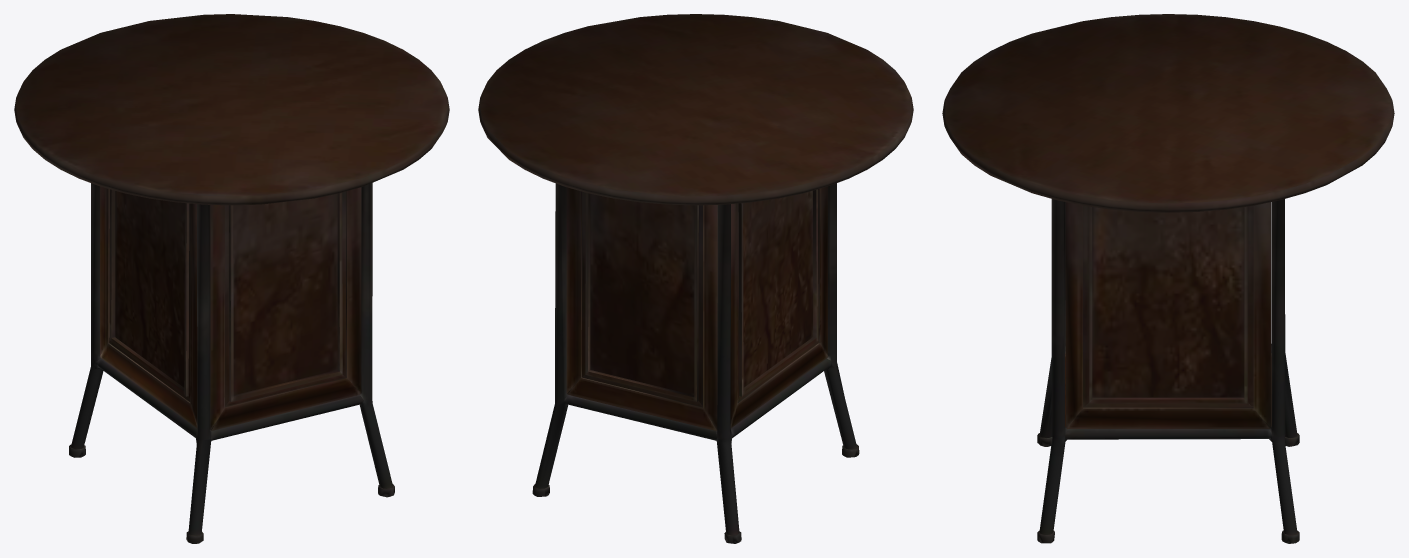
Rendered from round_wooden_table_02.glb.
3 views of the same model, side by side, from view 1: azimuth 30°, elevation 25°; view 2: azimuth 150°, elevation 25°; view 3: azimuth 270°, elevation 25° (orthographic). The views are drawn at different scales.
Parts seen in each view (by area): view 1: round_wooden_table_02; view 2: round_wooden_table_02; view 3: round_wooden_table_02.
Boxes of the visible parts, x1,y1,x2,y2 form: round_wooden_table_02: [14, 14, 449, 543]; round_wooden_table_02: [478, 14, 913, 543]; round_wooden_table_02: [942, 14, 1394, 543].
Bounding box in the file's own units: 0.7962 × 0.7451 × 0.7962.
1 material, 1 textured.
